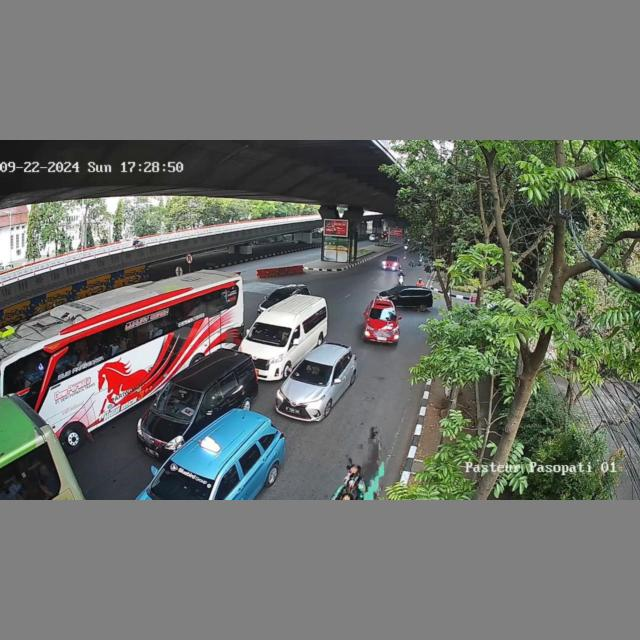windshield: (151, 461, 218, 500), (154, 382, 202, 418), (289, 358, 336, 385), (247, 322, 291, 344), (369, 308, 399, 322)
